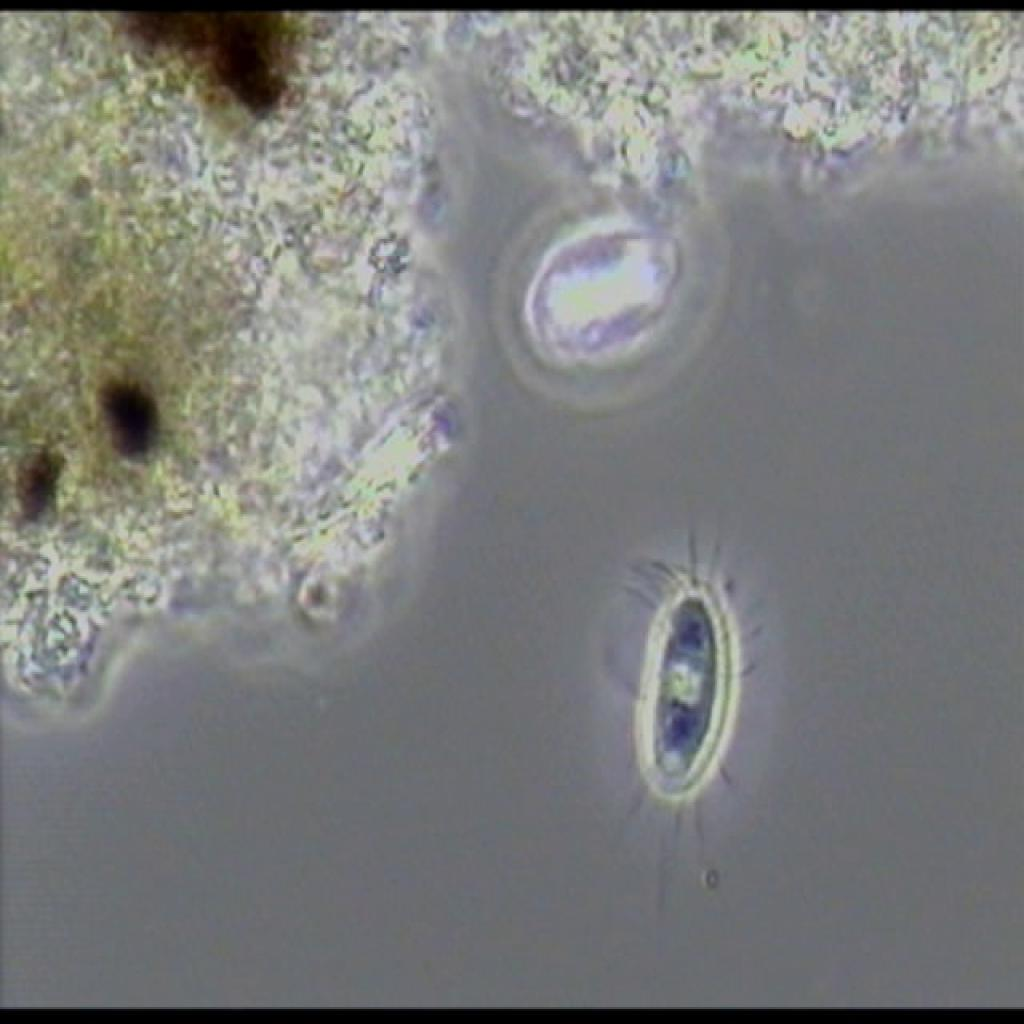Cyclidium: (573, 522, 790, 938)
